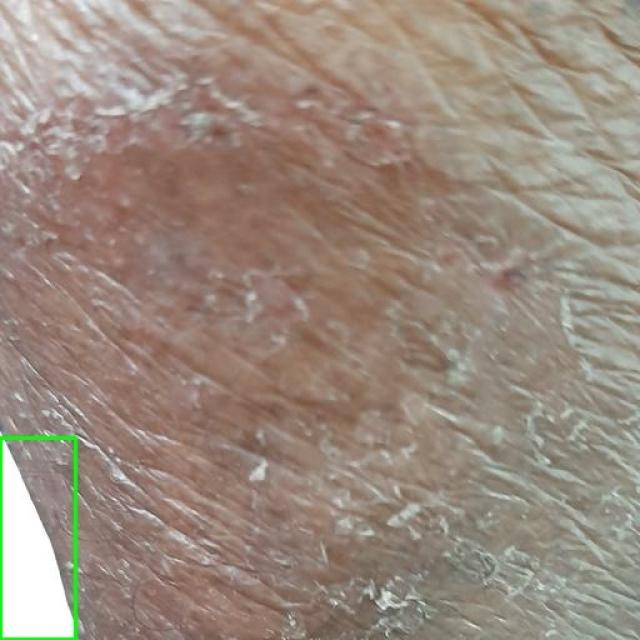Tinea Corporis: (0, 438, 75, 639)
